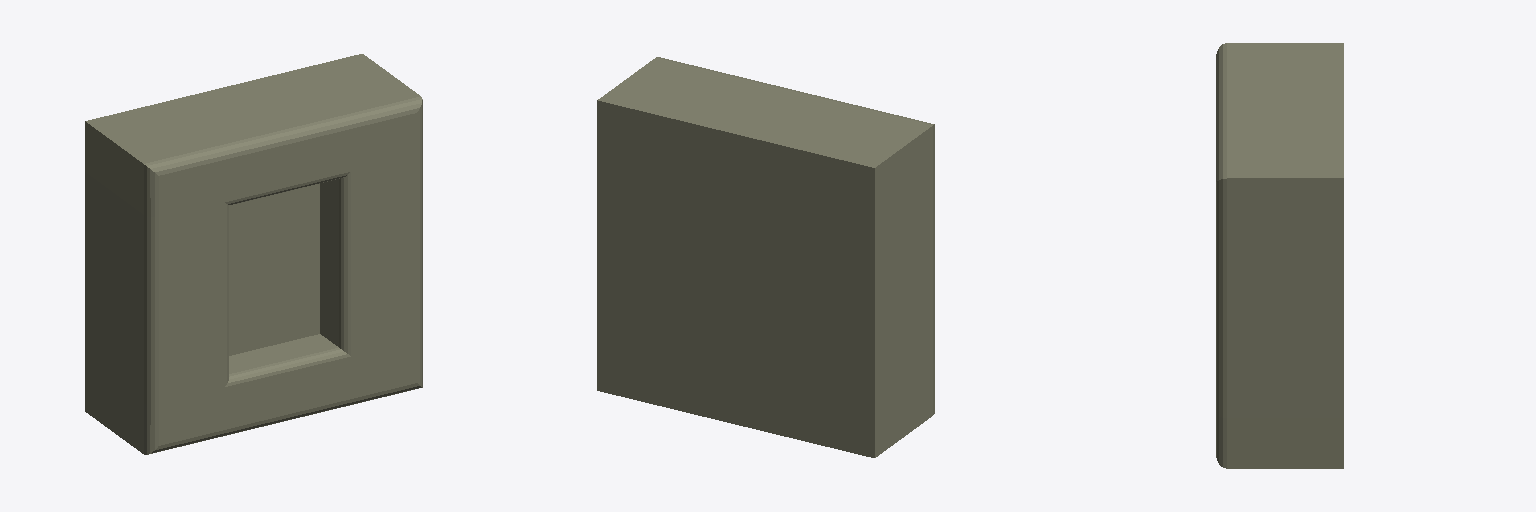
The model's file is wallSwitchCover.obj.
The picture shows the model from 3 angles: view 1: azimuth 30°, elevation 25°; view 2: azimuth 150°, elevation 25°; view 3: azimuth 270°, elevation 25°; orthographic projection.
Parts seen in each view (by area): view 1: wallSwitchCover; view 2: wallSwitchCover; view 3: wallSwitchCover.
Part boxes in pixels (x1,y1,x2,y2): wallSwitchCover: (85, 54, 422, 454); wallSwitchCover: (597, 57, 934, 457); wallSwitchCover: (1216, 43, 1343, 468).
Size of the model in its own units: 0.2001 by 0.2 by 0.08.